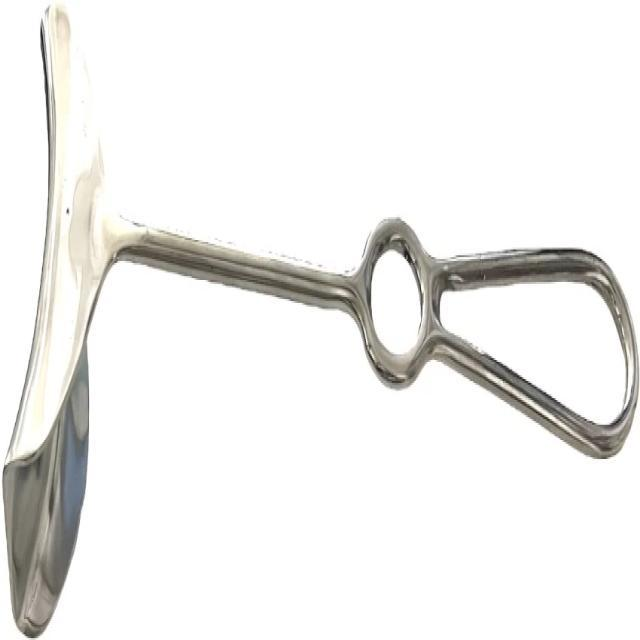Morris Retractor: (1, 2, 638, 640)
